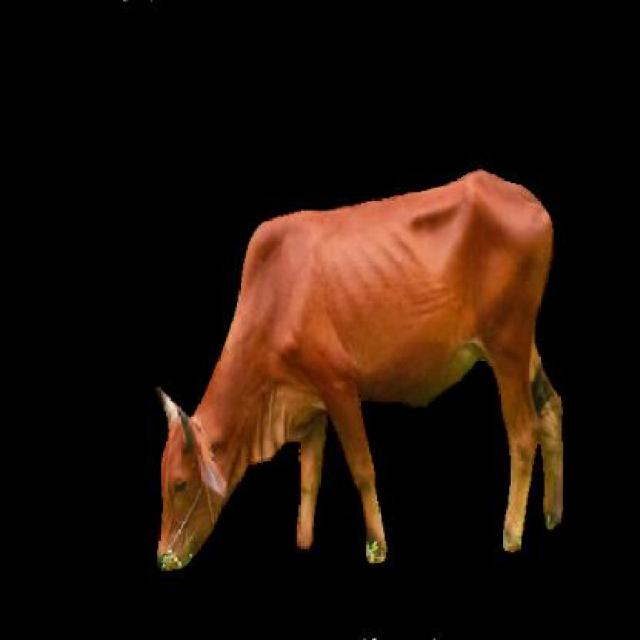Cow: (156, 169, 562, 571)
